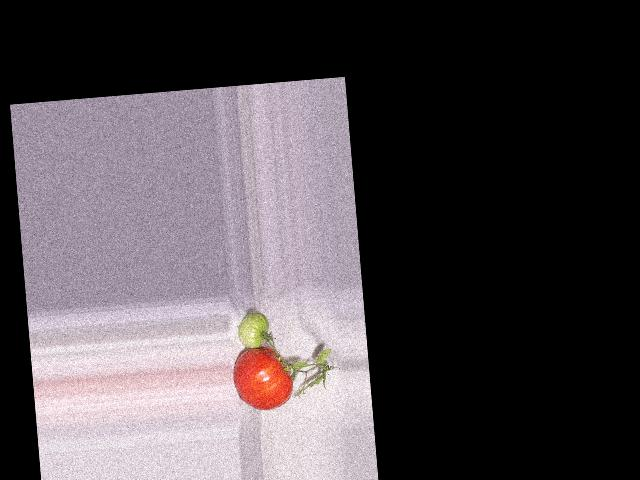tomato: (231, 344, 294, 412)
